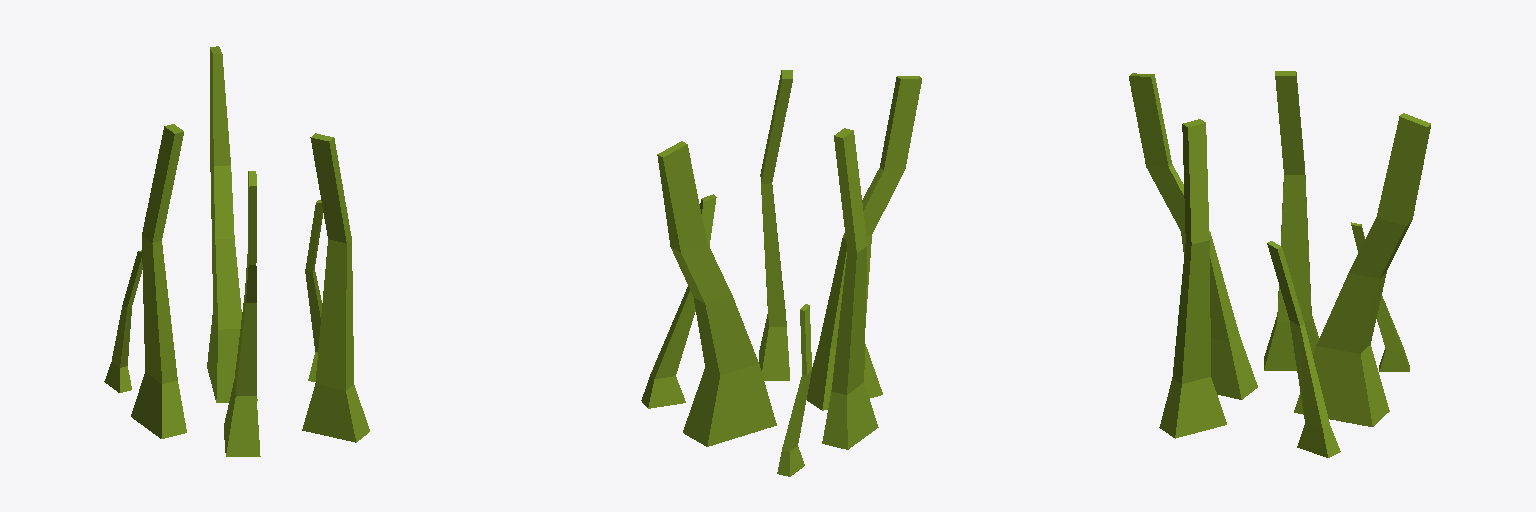
The model's file is Grass2.obj.
3 renders of one model, left to right at view 1: azimuth 30°, elevation 25°; view 2: azimuth 150°, elevation 25°; view 3: azimuth 270°, elevation 25°, orthographic.
Parts seen in each view (by area): view 1: Grass2_Cube.003; view 2: Grass2_Cube.003; view 3: Grass2_Cube.003.
Boxes of the visible parts, x1,y1,x2,y2 form: Grass2_Cube.003: [104, 46, 369, 456]; Grass2_Cube.003: [641, 70, 921, 476]; Grass2_Cube.003: [1129, 71, 1430, 457].
Bounding box in the file's own units: 0.1646 × 0.2336 × 0.2104.